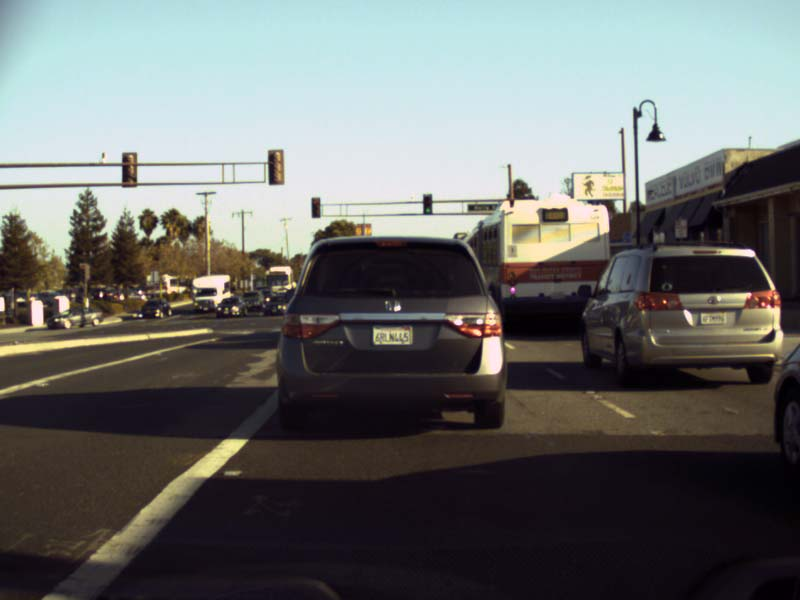Green: (422, 194, 432, 214)
Red: (311, 196, 320, 218)
